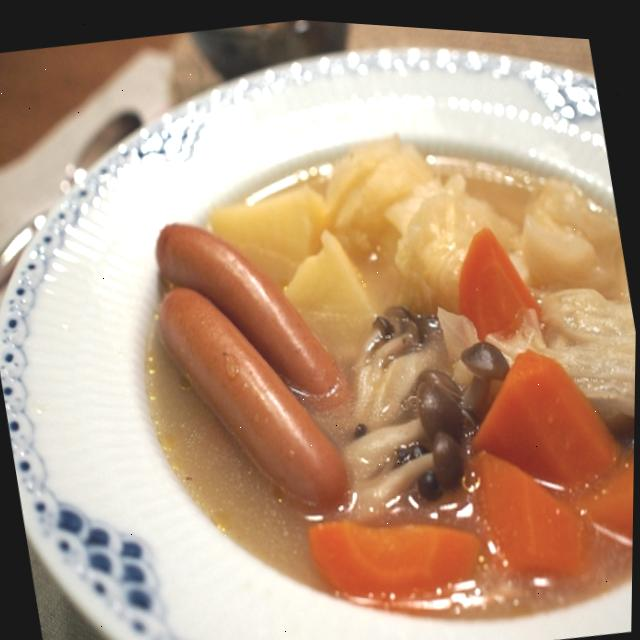汤锅炖物: (75, 68, 639, 640)
